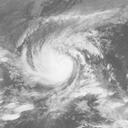cyclone: (24, 37, 76, 87)
